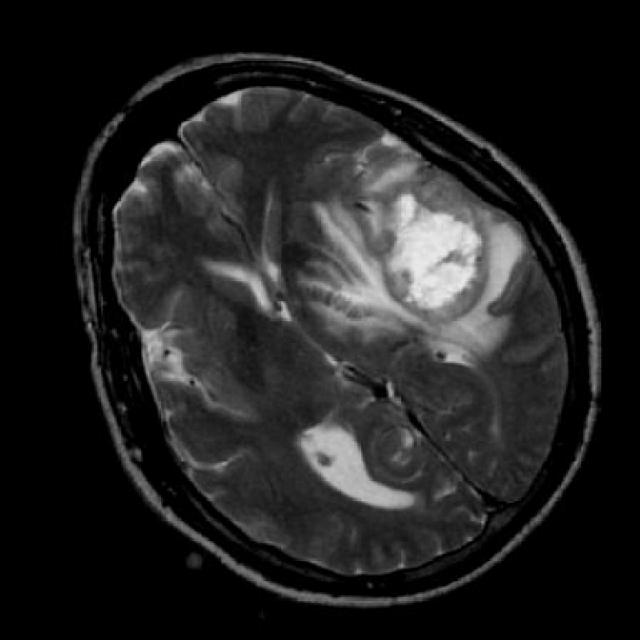Brain-Tumor: (369, 173, 498, 336)
